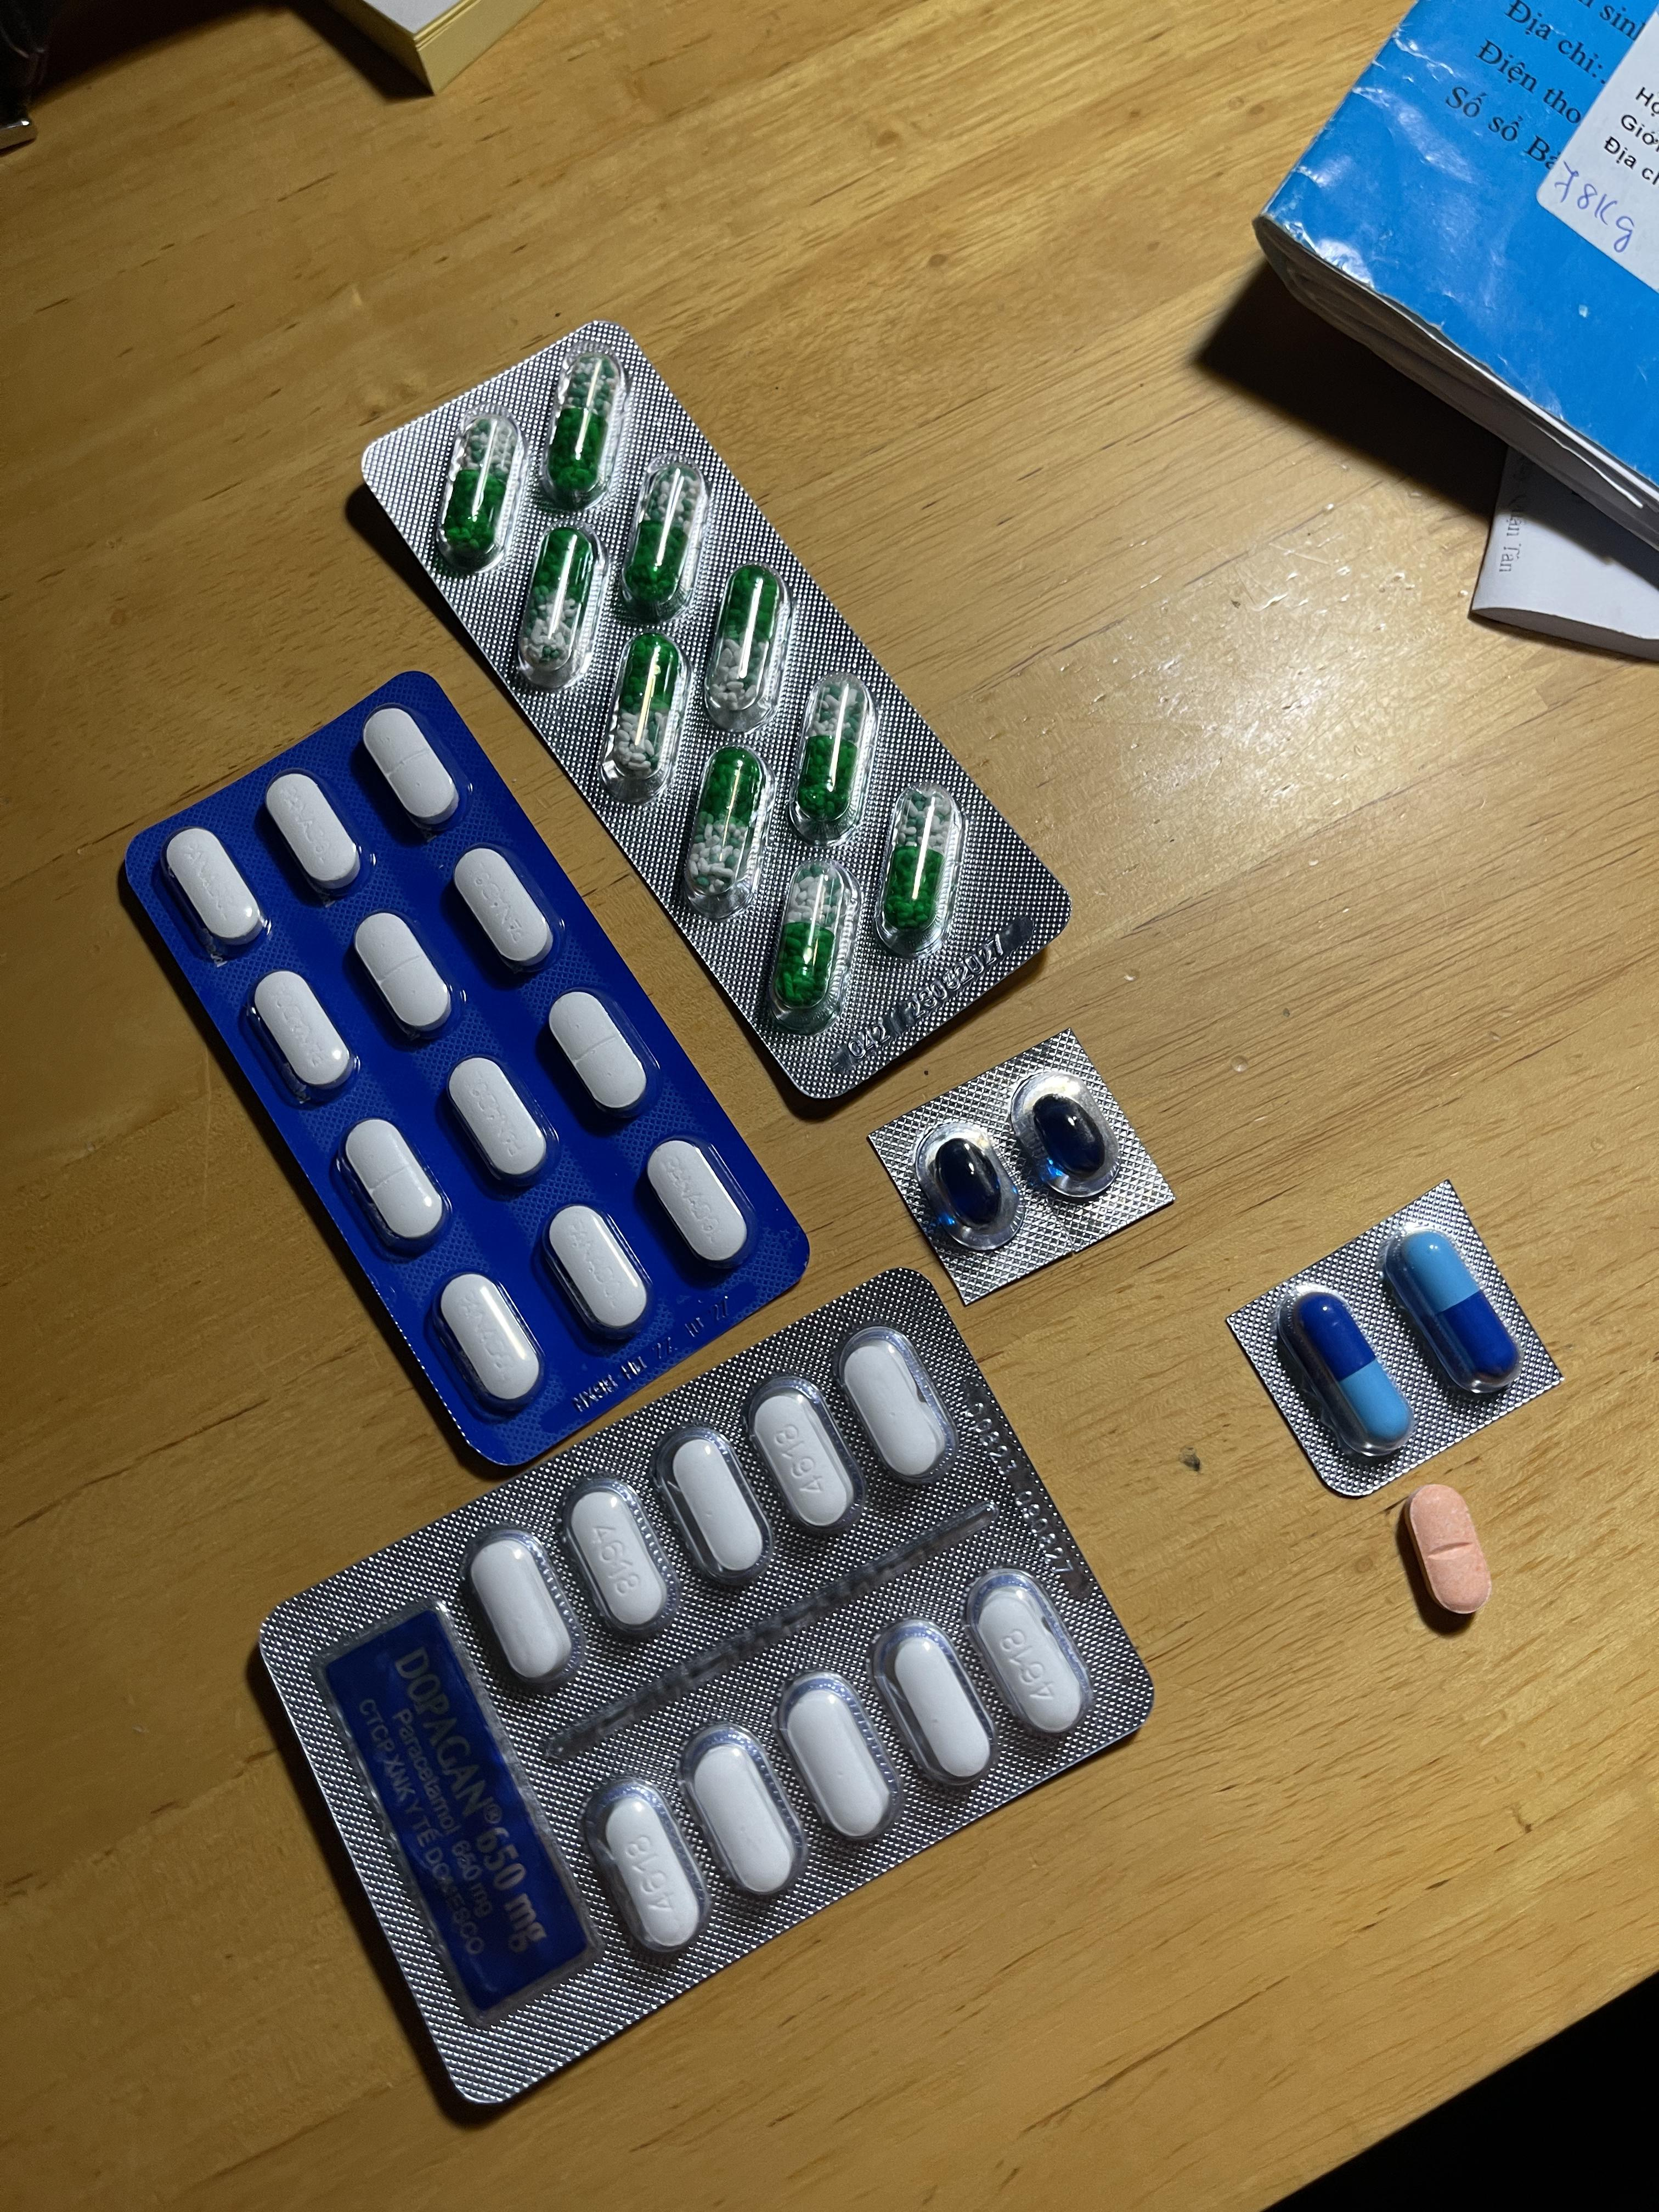Lincomyxin_500mg: (932, 1137, 1000, 1223), (1032, 1096, 1105, 1172)
Loratadine_10mg: (1403, 1484, 1488, 1616)
Paracetamol_350mg: (437, 1270, 544, 1411), (542, 1204, 650, 1341), (645, 1134, 751, 1270), (444, 1052, 551, 1186), (342, 1116, 446, 1251), (545, 988, 650, 1118), (450, 846, 556, 972), (352, 909, 455, 1038), (251, 968, 354, 1096), (162, 826, 265, 951), (361, 704, 462, 831), (263, 770, 361, 894)
Paracetamol_500mg: (586, 1777, 701, 1954), (559, 1472, 673, 1637), (688, 1738, 800, 1898), (781, 1677, 889, 1841), (744, 1383, 857, 1534), (662, 1426, 767, 1581), (887, 1629, 990, 1780), (842, 1334, 948, 1480), (978, 1585, 1082, 1733), (469, 1534, 573, 1683)
Paracetamol_650mg: (681, 742, 765, 911), (878, 786, 960, 953), (620, 458, 704, 617), (769, 862, 852, 1019), (791, 676, 871, 836), (603, 631, 681, 794), (439, 409, 519, 568), (519, 523, 598, 683), (544, 350, 626, 503), (706, 566, 782, 721)
pill: (1389, 1226, 1516, 1386), (1293, 1287, 1413, 1453)
